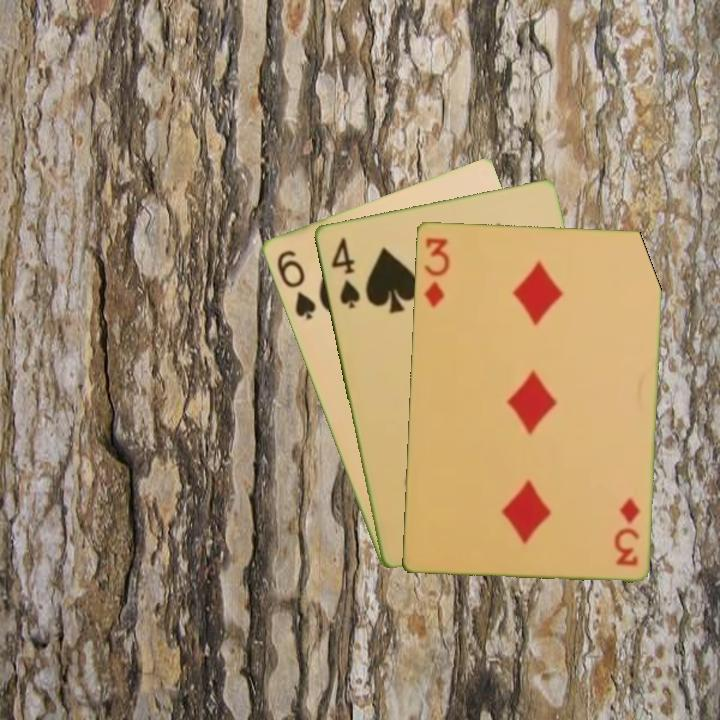3d: (419, 234, 452, 309), (611, 494, 642, 568)
4s: (327, 233, 363, 311)
6s: (272, 246, 319, 323)
